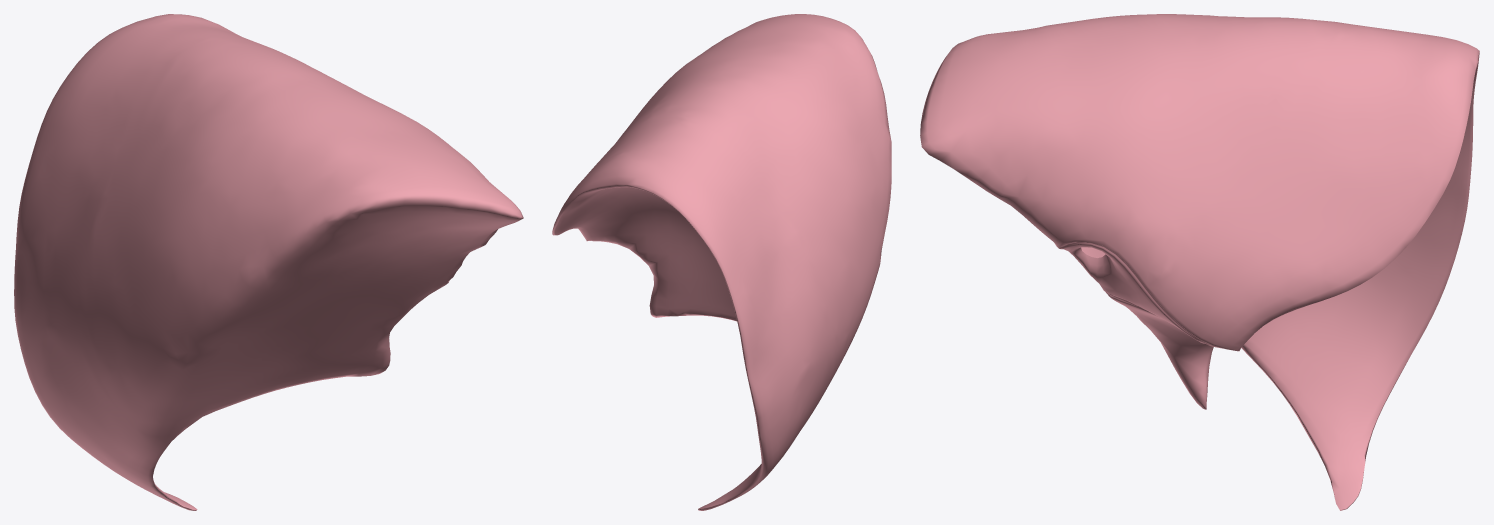
3 renders of one model, left to right at view 1: azimuth 30°, elevation 25°; view 2: azimuth 150°, elevation 25°; view 3: azimuth 270°, elevation 25°, orthographic. The views are drawn at different scales.
Parts seen in each view (by area): view 1: 右肺下叶; view 2: 右肺下叶; view 3: 右肺下叶.
Part boxes in pixels (x1,y1,x2,y2): 右肺下叶: (14,14,523,510); 右肺下叶: (552,14,891,510); 右肺下叶: (920,14,1479,510).
Size of the model in its own units: 0.1892 by 0.2591 by 0.2659.
